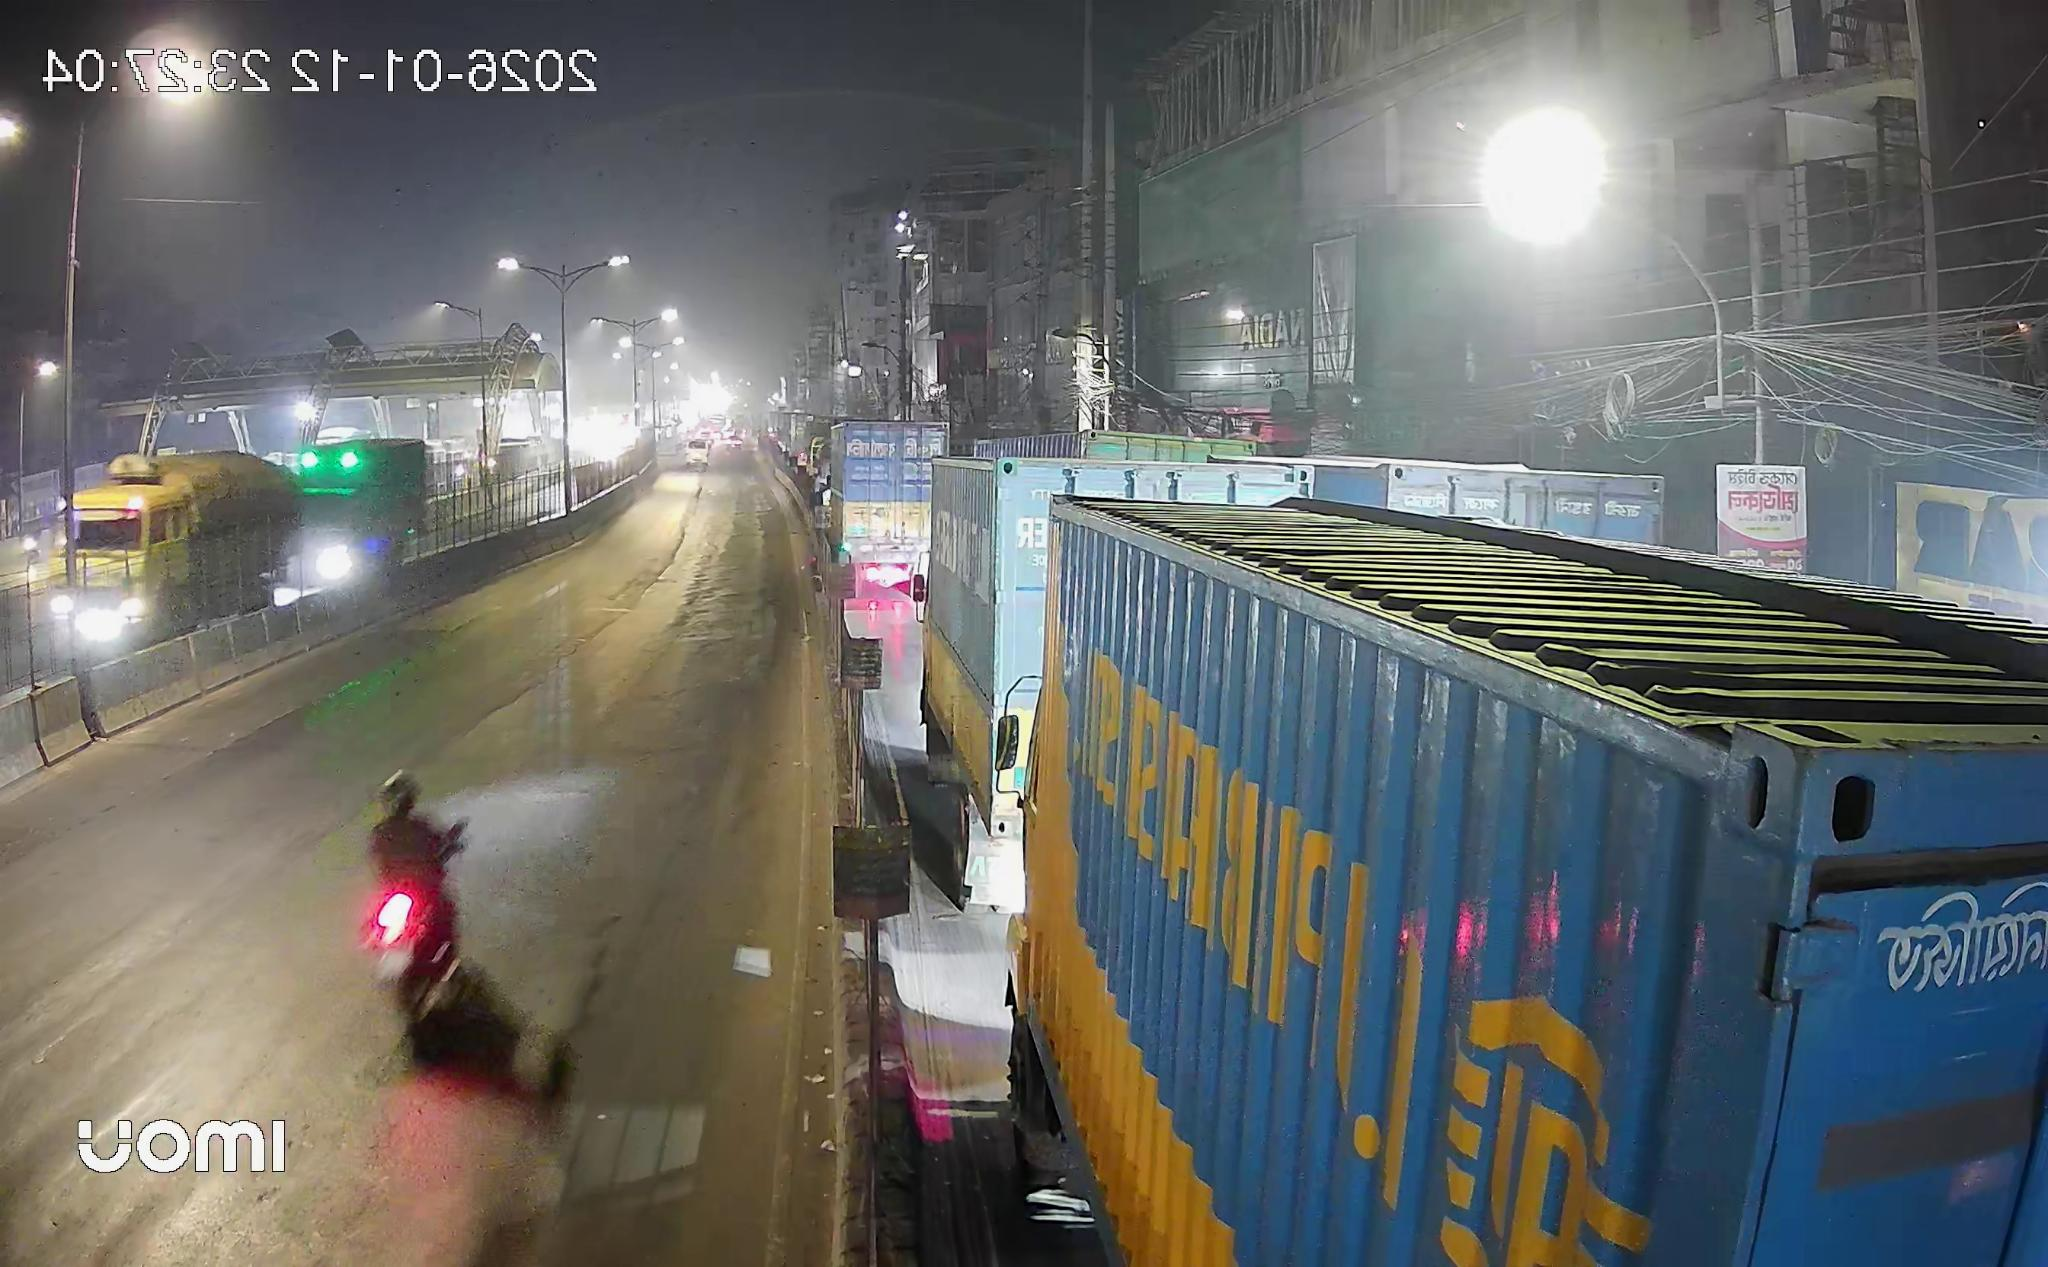Motorcycle: (363, 772, 467, 1015)
Truck: (1009, 495, 2048, 1267), (920, 456, 1312, 897), (47, 452, 317, 653), (821, 418, 946, 607), (290, 437, 429, 579)
